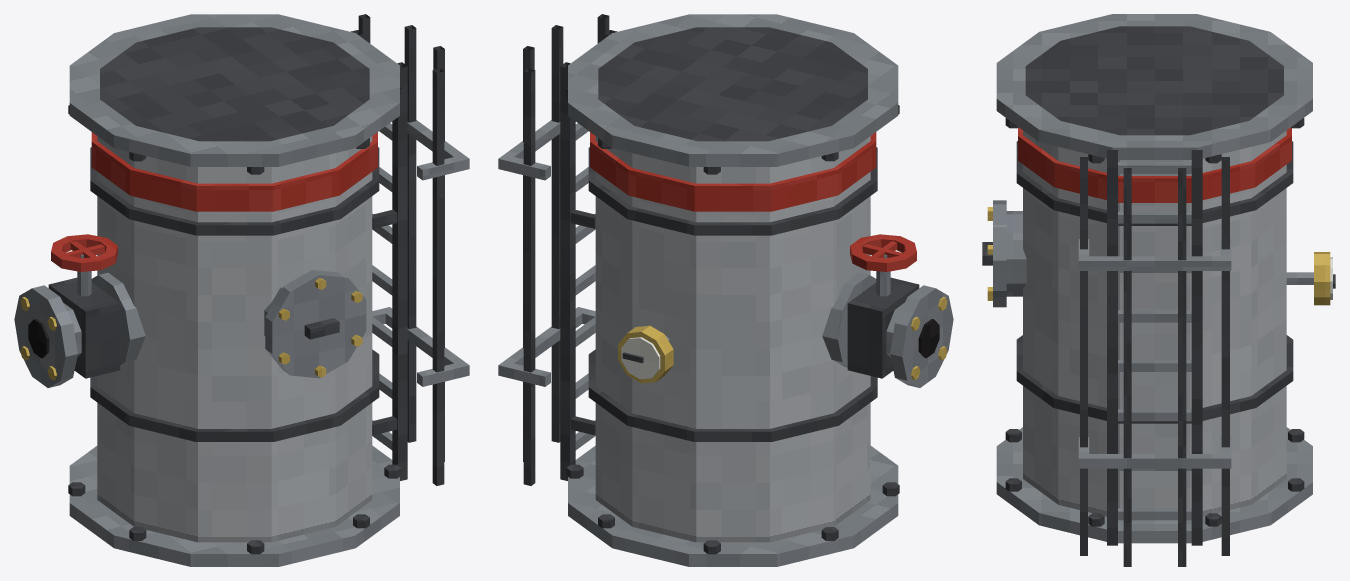
Rendered from columnsegment.obj.
The picture shows the model from 3 angles, left to right: view 1: azimuth 30°, elevation 25°; view 2: azimuth 150°, elevation 25°; view 3: azimuth 270°, elevation 25°; orthographic projection. The views are drawn at different scales.
Visible parts, largest first — view 1: main; view 2: main; view 3: main.
Boxes of the visible parts, left/top/right/bottom form: main: left=14, top=14, right=469, bottom=566; main: left=498, top=14, right=953, bottom=566; main: left=982, top=14, right=1335, bottom=566.
Bounding box in the file's own units: 0.9938 × 1 × 0.81.
Materials: 1 (1 with a texture image).
